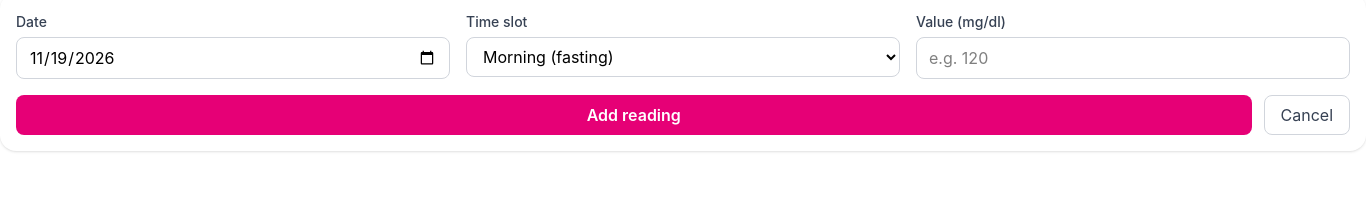
Test: ReadingForm › value "" shows "Please enter a glucose value."
The image size is (1366, 221).
Click the button "Add reading" at [634, 115], box 16,95 -> 1252,135
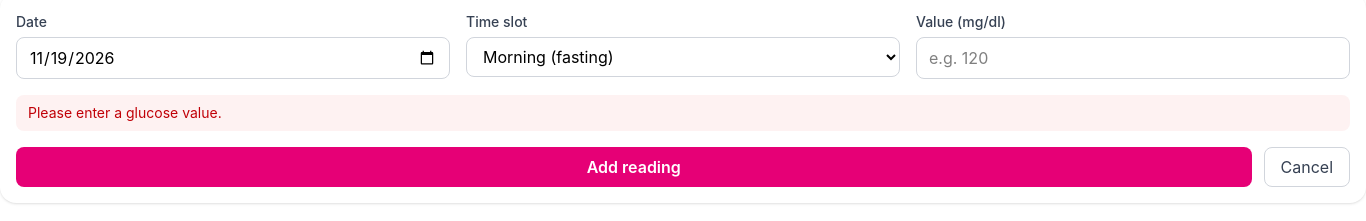
Expected: the text "Please enter a glucose value." is shown, 16,95 -> 1350,131
